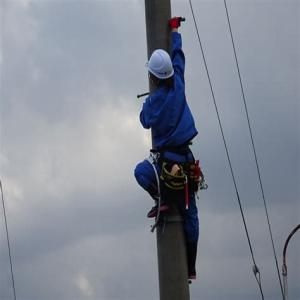blue: (148, 47, 176, 92)
